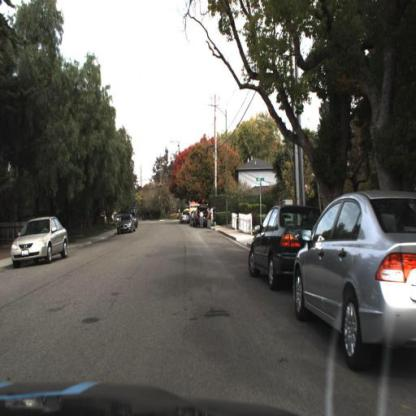car: (294, 189, 416, 376), (246, 192, 324, 294), (7, 211, 73, 275), (9, 212, 69, 267), (115, 212, 137, 239), (196, 206, 210, 229)
pedestrian: (213, 207, 217, 226), (200, 212, 204, 230), (212, 206, 215, 227), (209, 209, 212, 226)
